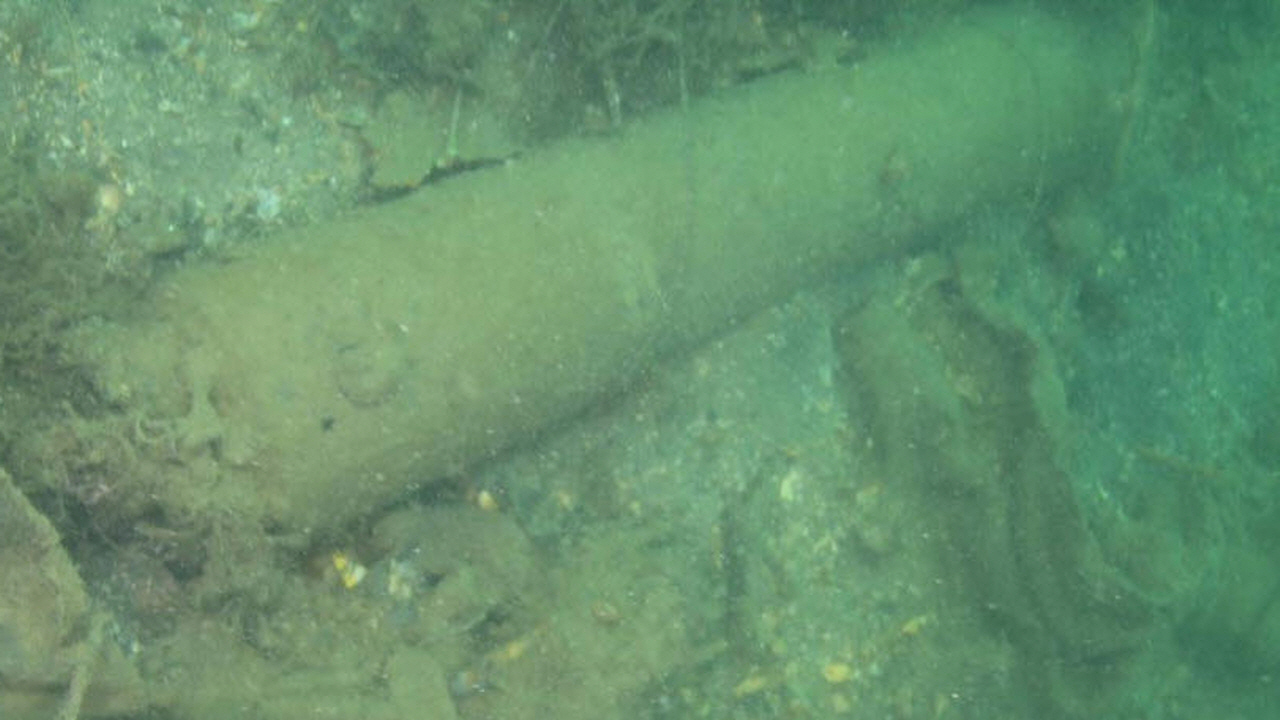eel fish trap: (71, 6, 1091, 550)
